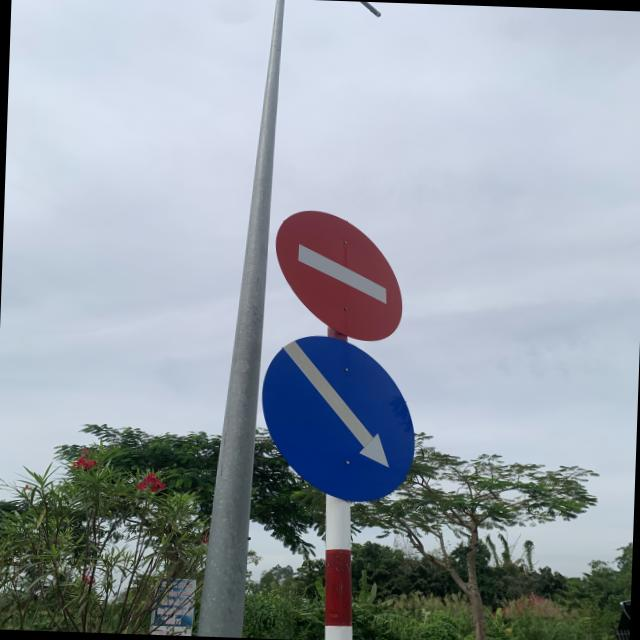Cam_Di_Nguoc_Chieu: (270, 205, 408, 340)
Chi_Huong_Di_Phai: (255, 330, 419, 504)
